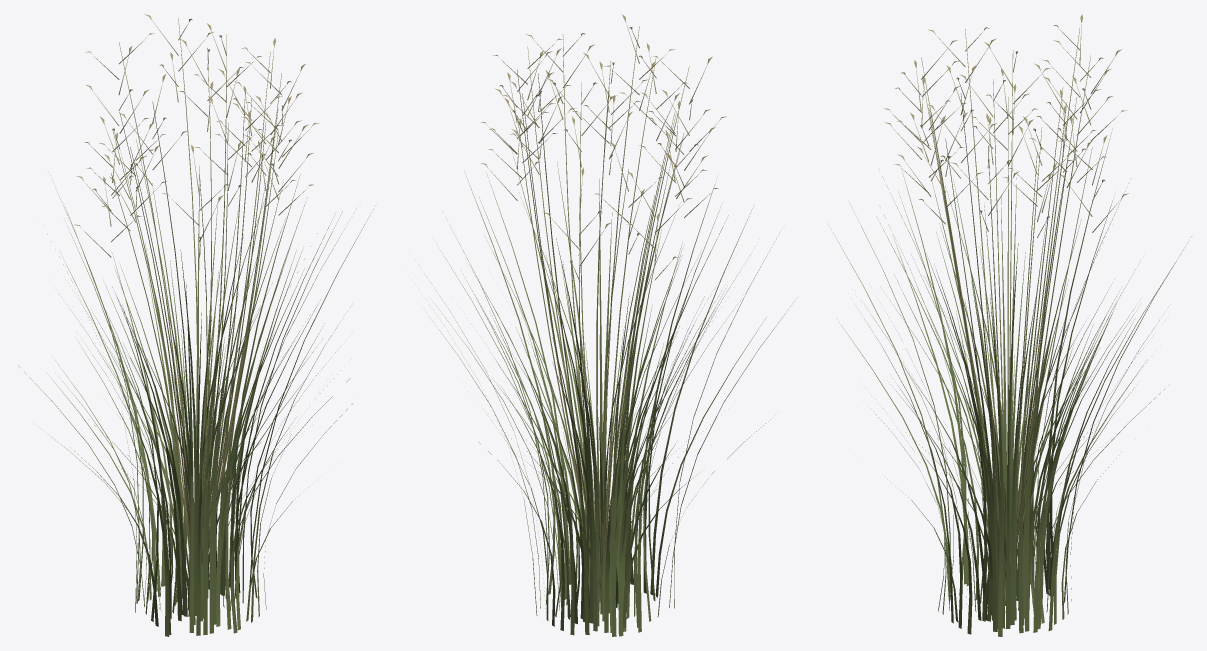
File: upright_grass.glb
The picture shows the model from 3 angles, left to right: view 1: azimuth 30°, elevation 25°; view 2: azimuth 150°, elevation 25°; view 3: azimuth 270°, elevation 25°; orthographic projection.
Visible parts, largest first — view 1: UprightBladesAndPanicles; view 2: UprightBladesAndPanicles; view 3: UprightBladesAndPanicles.
Part boxes in pixels (left/top/right/bottom): UprightBladesAndPanicles: left=18, top=14, right=373, bottom=636; UprightBladesAndPanicles: left=426, top=14, right=794, bottom=636; UprightBladesAndPanicles: left=827, top=14, right=1191, bottom=636.
Size of the model in its own units: 0.5043 by 0.8784 by 0.5052.
